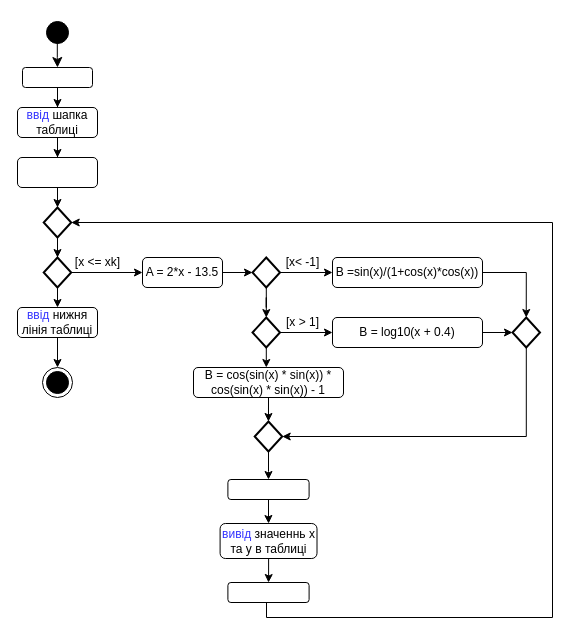
This 578x643 diagram has some shape labels left out. The centre of each missing label's shape, as x and y in pixels:
x += dx: pixel 268 592
x = xp: pixel 57 172
y = A - B: pixel 268 489
ввід xp,xk,dx: pixel 57 77
